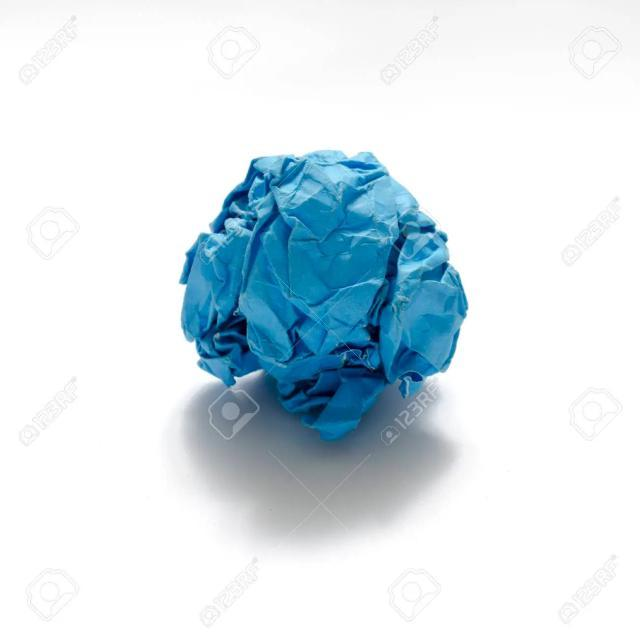Paper: (179, 149, 468, 442)
